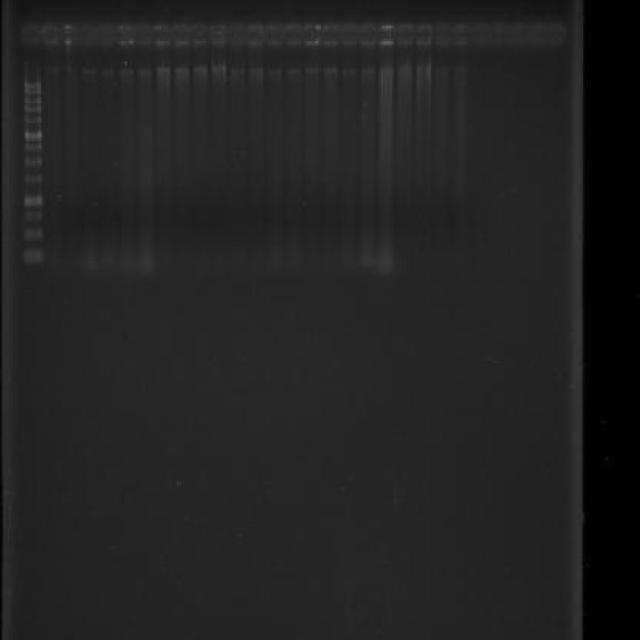L: (12, 18, 477, 51)
M: (18, 58, 47, 271)
P: (22, 248, 44, 267), (22, 226, 42, 242), (23, 194, 43, 209), (23, 140, 42, 154), (23, 172, 43, 185), (23, 130, 43, 142), (23, 210, 42, 222), (23, 156, 43, 167), (23, 79, 42, 90), (23, 116, 42, 125), (23, 105, 43, 113), (23, 97, 42, 105), (23, 88, 42, 96)
Pc: (20, 22, 42, 46), (97, 22, 117, 48), (41, 22, 61, 47), (78, 23, 98, 48), (134, 22, 154, 47), (152, 22, 172, 47), (452, 22, 472, 47), (320, 22, 340, 47), (228, 22, 247, 48), (264, 22, 284, 46), (190, 23, 210, 46), (358, 23, 378, 46), (433, 22, 452, 46), (283, 22, 302, 46), (116, 24, 135, 47), (209, 23, 228, 46), (415, 22, 433, 46), (396, 22, 414, 46), (378, 23, 396, 46), (340, 23, 358, 46), (302, 23, 320, 46), (248, 23, 264, 48), (60, 24, 78, 46), (173, 23, 190, 46)
